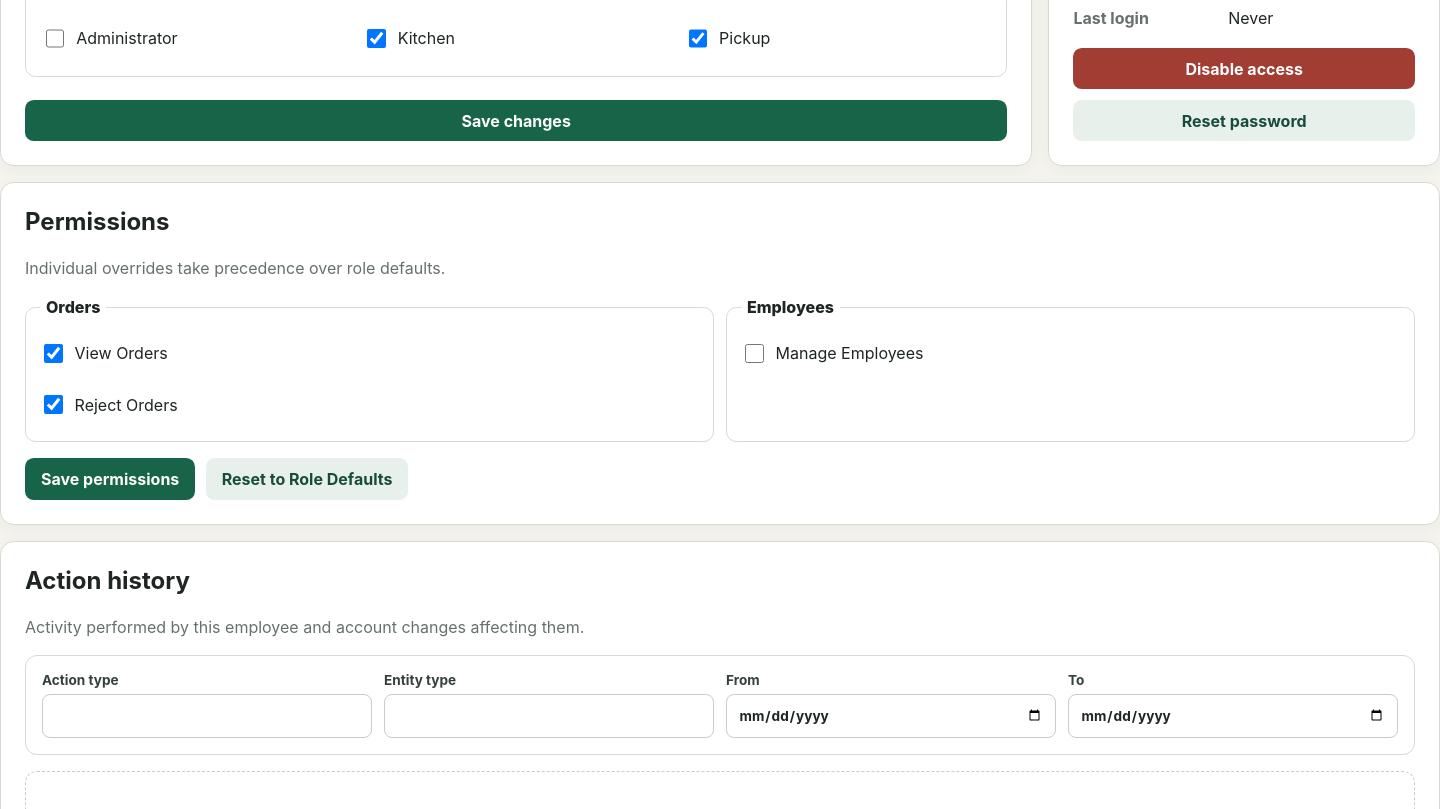
Test: employee management administration › saves employee permission overrides and resets to role defaults
This screenshot has width=1440, height=809.
(page scrolled)
Step 1. Click the checkbox labelled "Reject Orders" → (54,405), box [44,396,63,414]
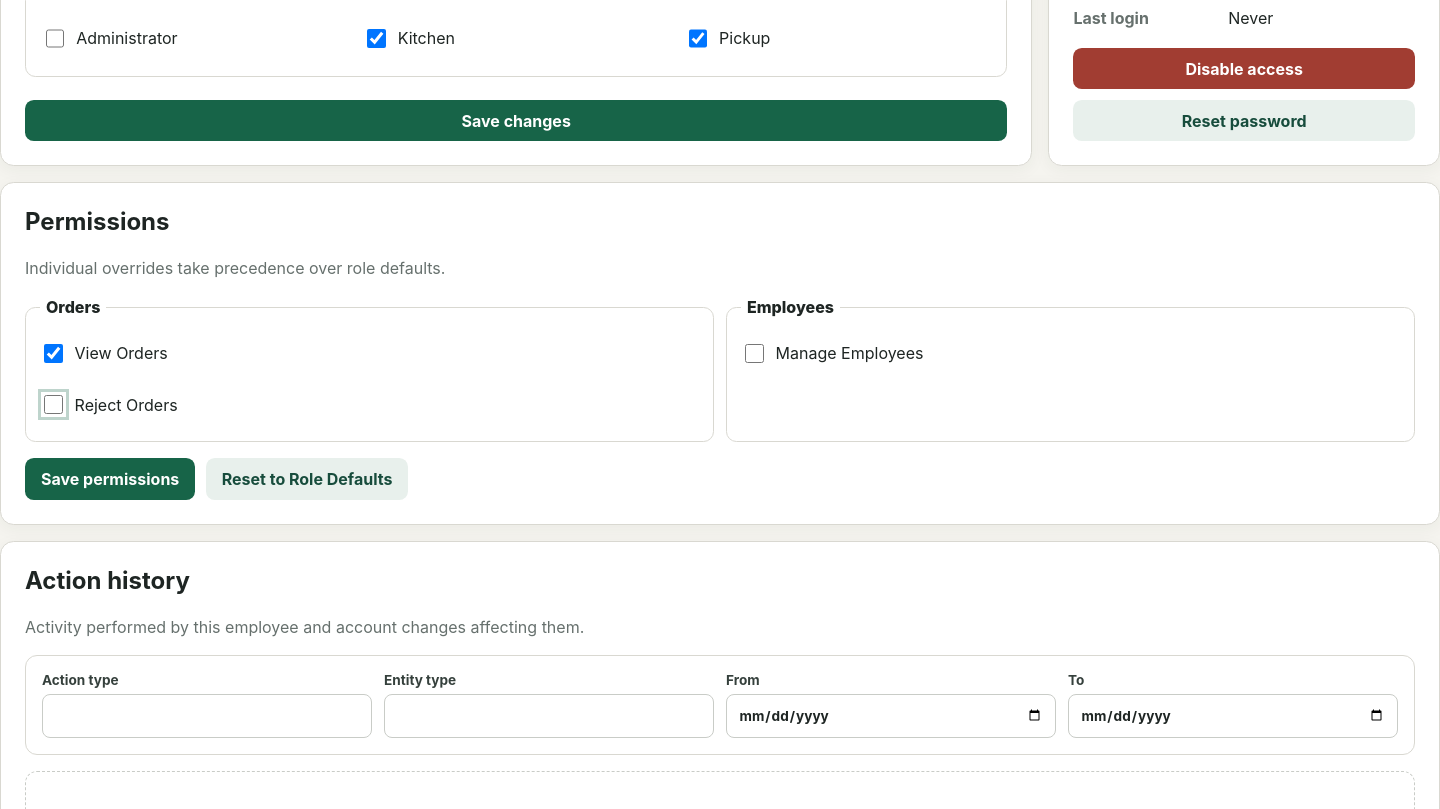
Step 2. Click the button "Save permissions" → (110,479), box [25,458,195,500]
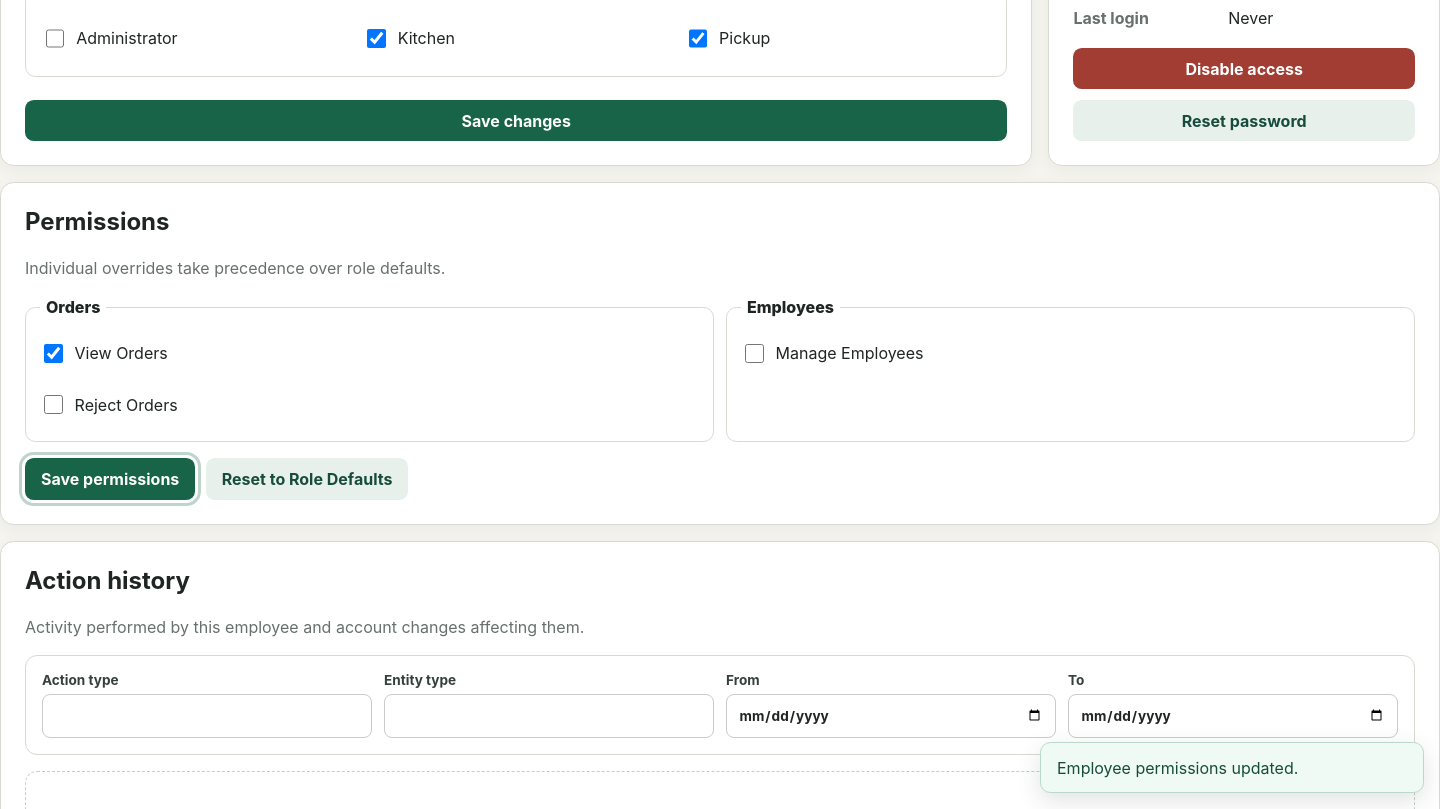
Now the text "Employee permissions updated." is shown, box [1040,742,1424,793]
Step 3. Click the button "Reset to Role Defaults" → (307,479), box [206,458,408,500]
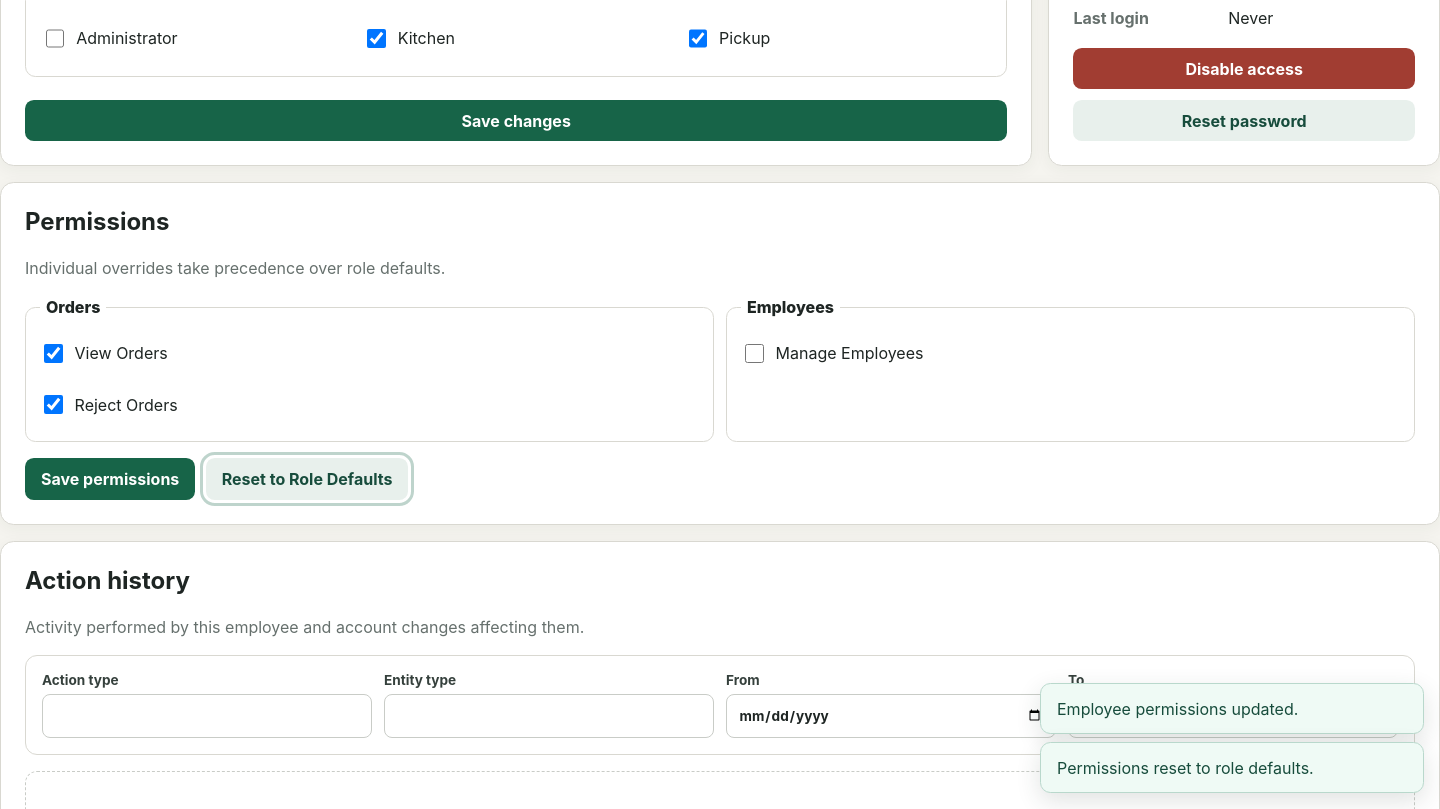
Now the text "Permissions reset to role defaults." is shown, box [1040,742,1424,793]
